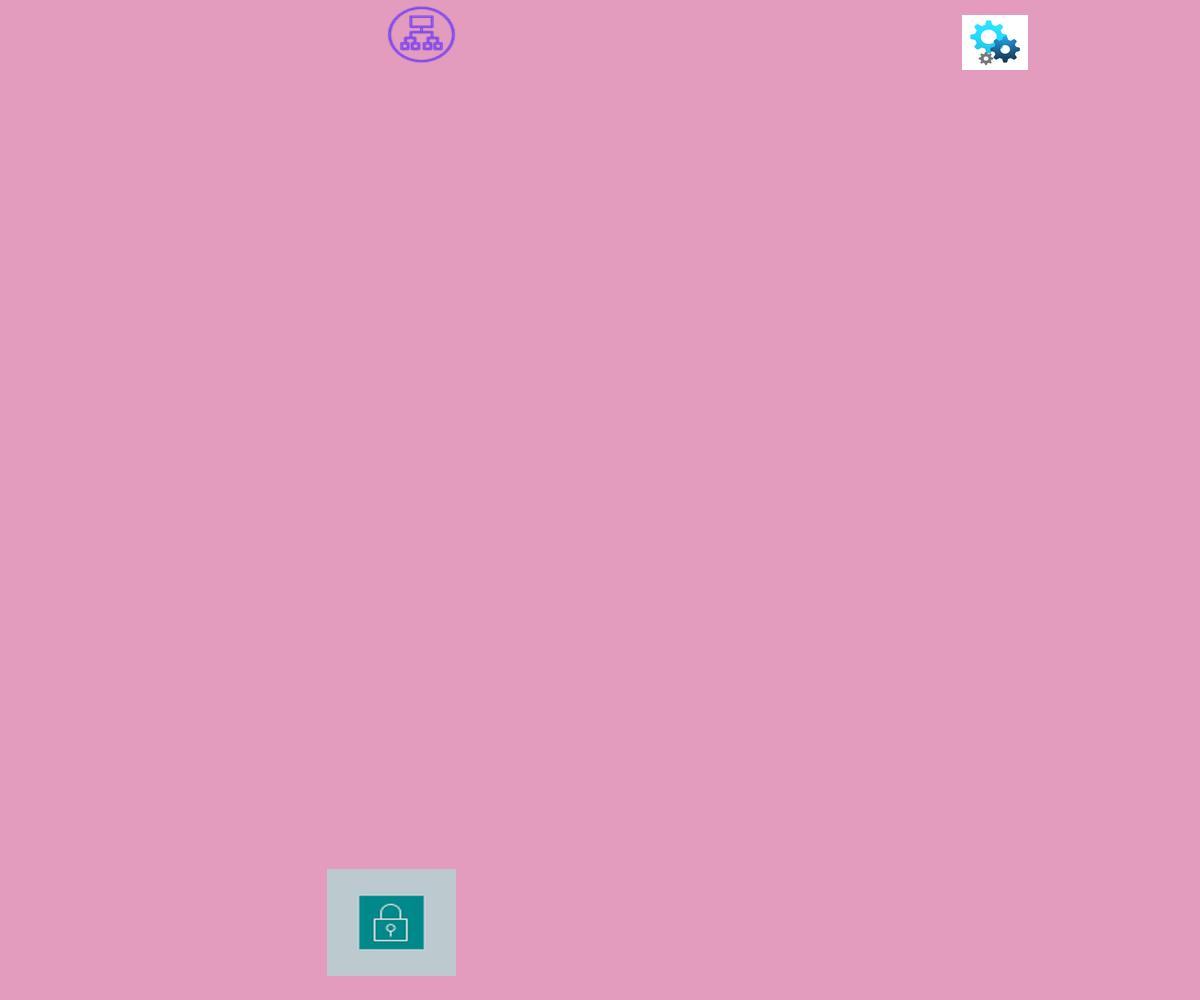AWS-Private-subnet: (327, 869, 456, 976)
AWS-Res_Elastic-Load-Balancing_Application-Load-Balancer: (385, 4, 458, 65)
Azure_api: (962, 15, 1028, 70)
